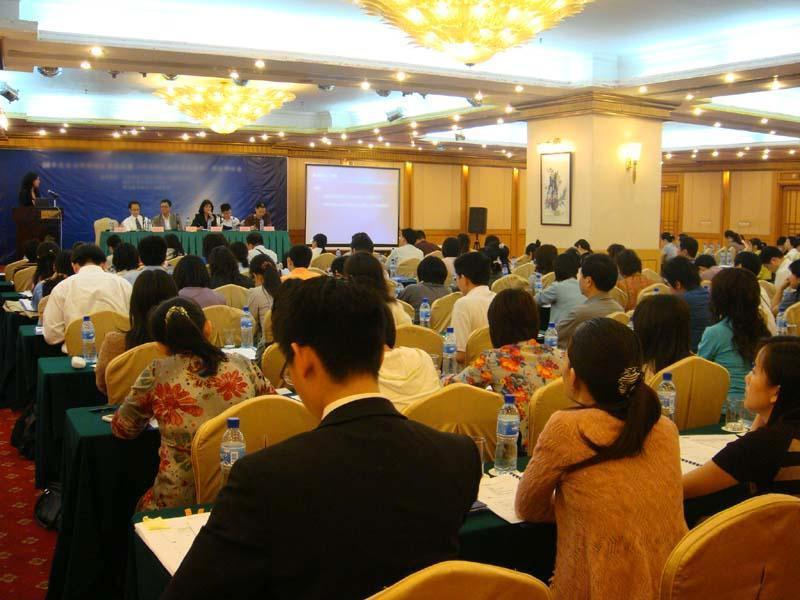nohelmet: (284, 273, 397, 406), (563, 311, 648, 408), (739, 326, 797, 424), (629, 291, 691, 362), (148, 295, 212, 353), (486, 287, 541, 347), (707, 265, 763, 316), (129, 267, 178, 323), (575, 251, 617, 299), (344, 251, 388, 296), (450, 250, 489, 293), (656, 256, 697, 293), (174, 248, 207, 287), (69, 241, 104, 272), (205, 246, 238, 278), (414, 251, 446, 283), (247, 249, 275, 281), (614, 249, 642, 281), (111, 241, 139, 271), (138, 233, 164, 265), (282, 242, 308, 270), (693, 247, 720, 273), (734, 248, 759, 276), (199, 231, 227, 254), (349, 231, 373, 257), (759, 244, 783, 270), (33, 240, 60, 263), (552, 253, 574, 279), (17, 169, 44, 189), (672, 234, 695, 257), (535, 242, 557, 265), (483, 238, 507, 259), (439, 235, 460, 257), (783, 257, 799, 284), (227, 237, 247, 258), (308, 229, 327, 251), (104, 231, 124, 251), (160, 228, 179, 249), (607, 240, 626, 261), (395, 228, 415, 247), (51, 253, 72, 271), (571, 236, 589, 256), (245, 229, 263, 248), (20, 237, 35, 259), (523, 238, 541, 256), (252, 198, 268, 218), (126, 196, 142, 214), (747, 234, 763, 252), (412, 225, 427, 244), (217, 202, 233, 219), (198, 199, 213, 217), (658, 229, 676, 244), (727, 230, 742, 248), (158, 196, 171, 212), (783, 234, 796, 250)
